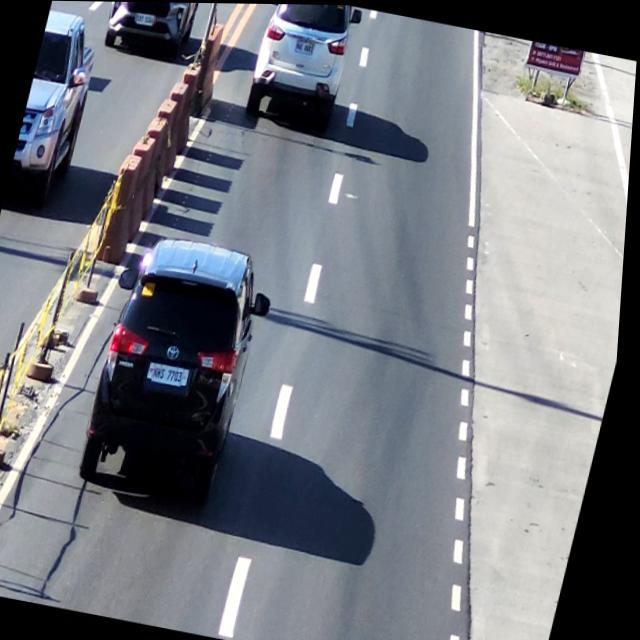Car: (83, 230, 277, 509), (7, 5, 105, 207), (243, 3, 359, 134), (101, 1, 202, 50)
License-Plate: (146, 354, 198, 393), (290, 36, 318, 55), (132, 11, 158, 30)
